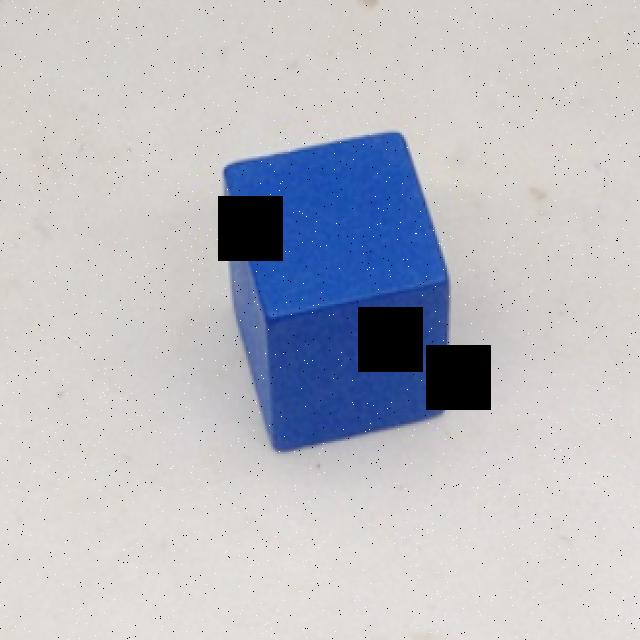bluecube: (222, 133, 447, 454)
